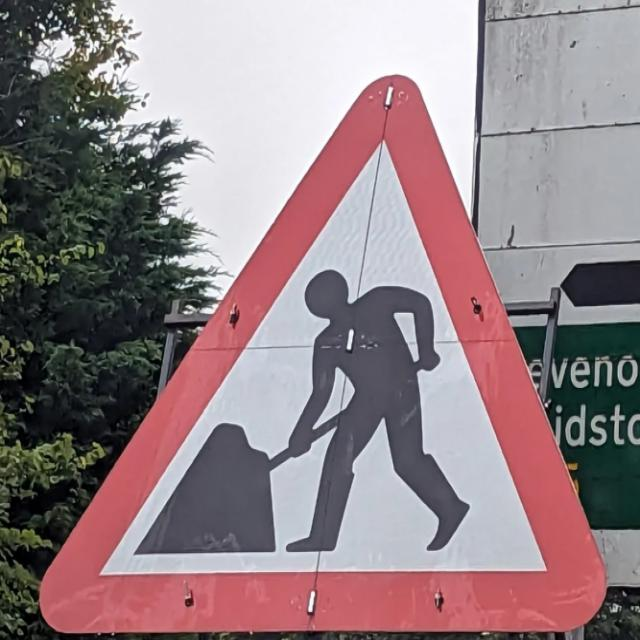WORKERS: (41, 75, 605, 632)
